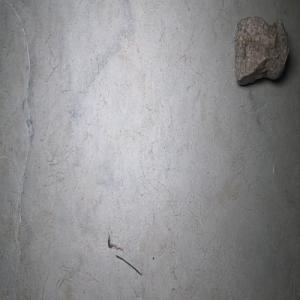Rock: (233, 15, 289, 85)
